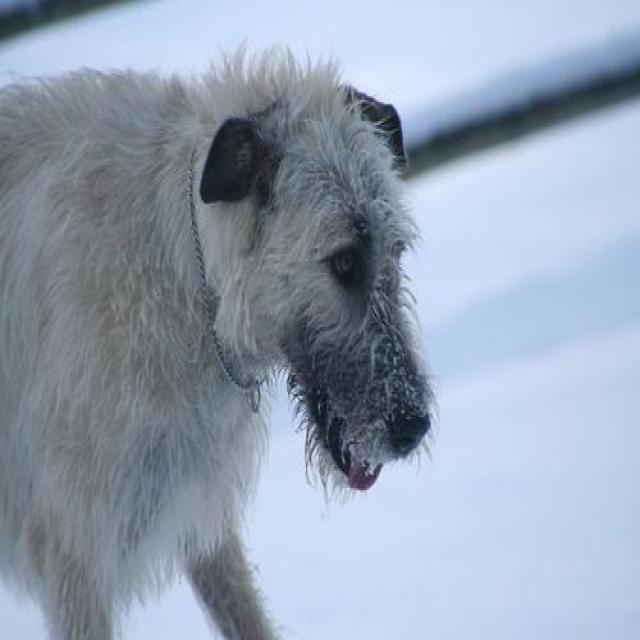irish_wolfhound: (0, 30, 440, 632)
